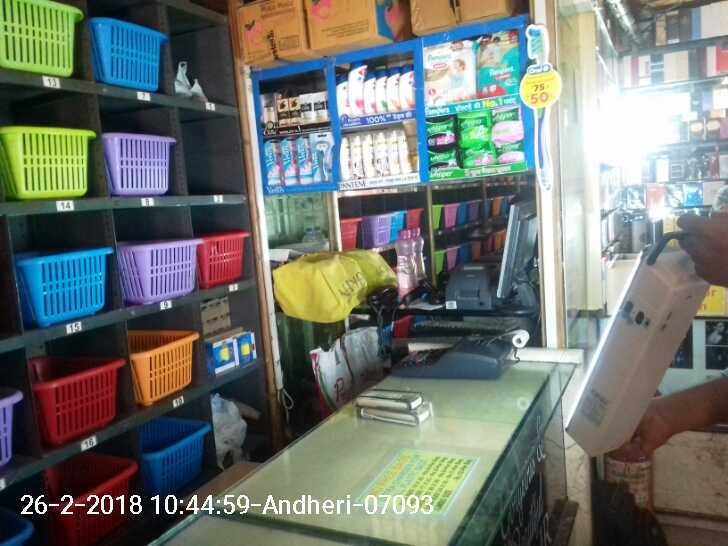venus: (313, 131, 335, 183), (281, 134, 297, 185), (297, 134, 313, 183), (267, 136, 281, 185)
